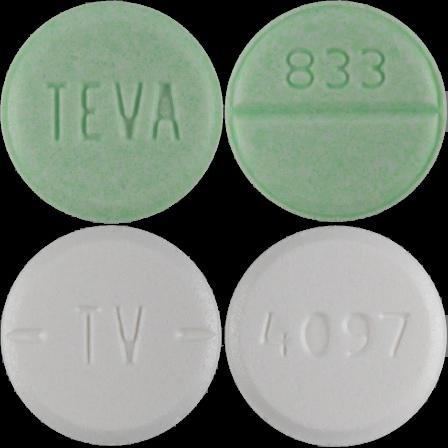63187-273: (0, 0, 224, 224)
